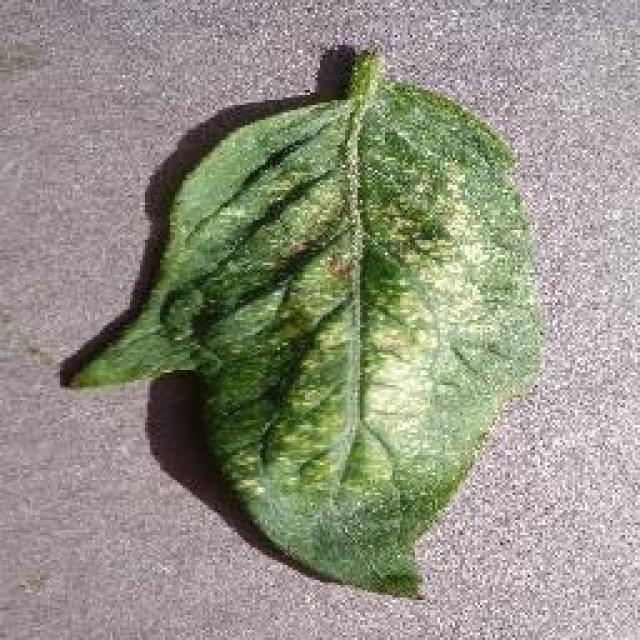Tomato___Spider_mites Two-spotted_spider_mite: (75, 50, 538, 595)
